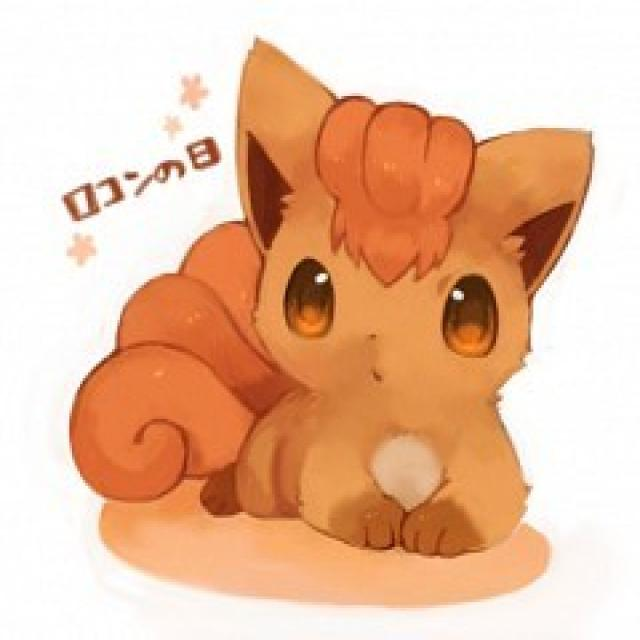Vulpix: (95, 100, 600, 552)
